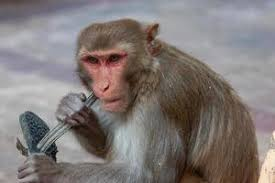monkey: (47, 9, 215, 179)
